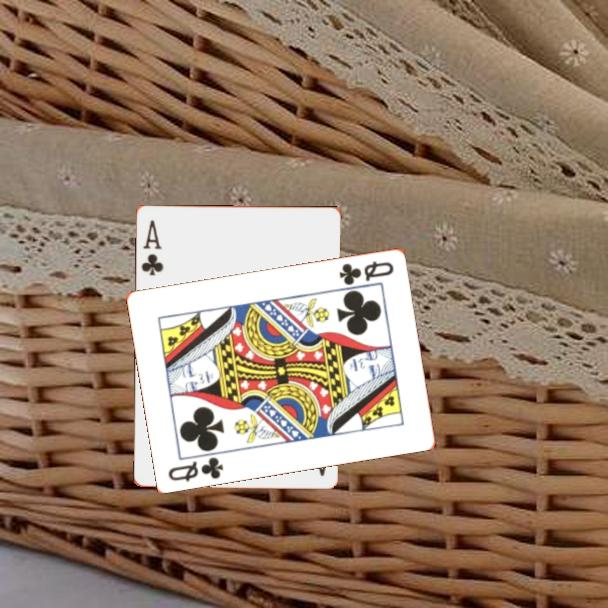c01: (137, 216, 166, 278)
c12: (336, 257, 397, 288), (165, 453, 226, 484)
